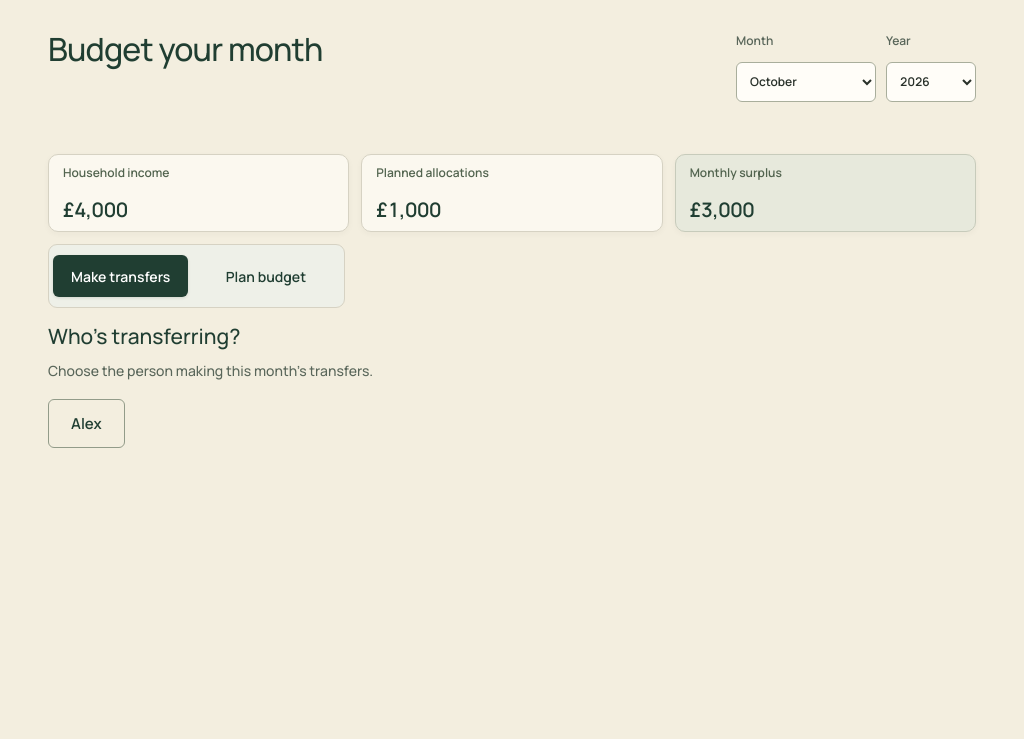
collapses and expands category and owner levels in the budget table
Click the button "Plan budget": (266, 276) [198,255,334,297]
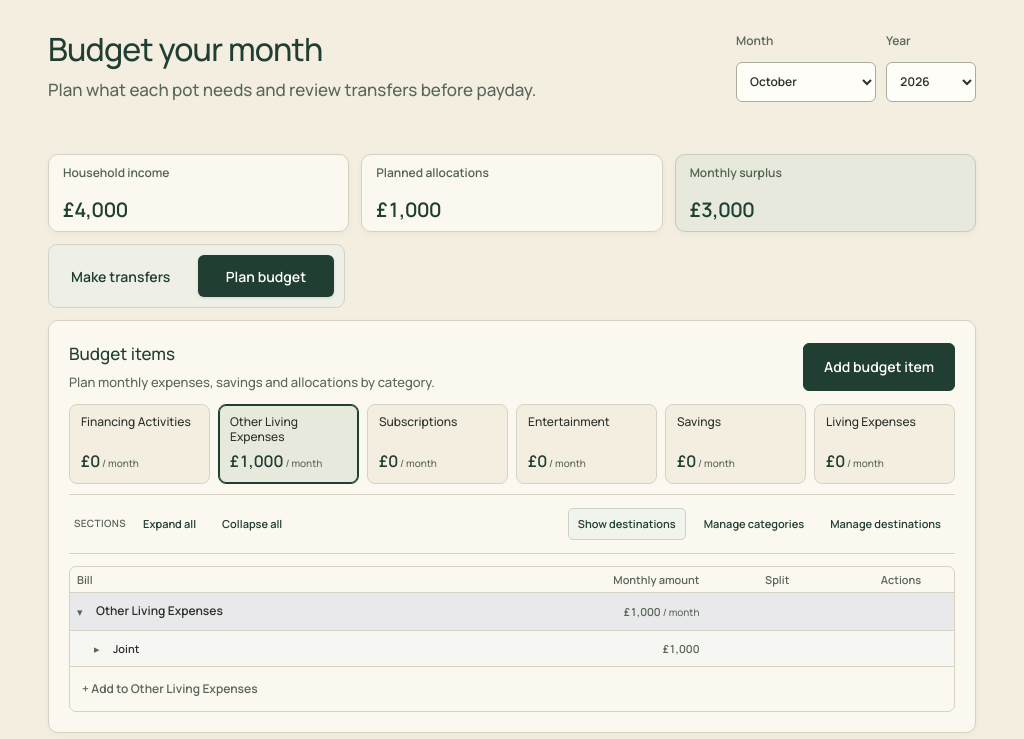
Expected: the text "Rent" is not shown
Click the button with aria-label "Collapse Other Living Expenses": (159, 611) [77,604,523,619]
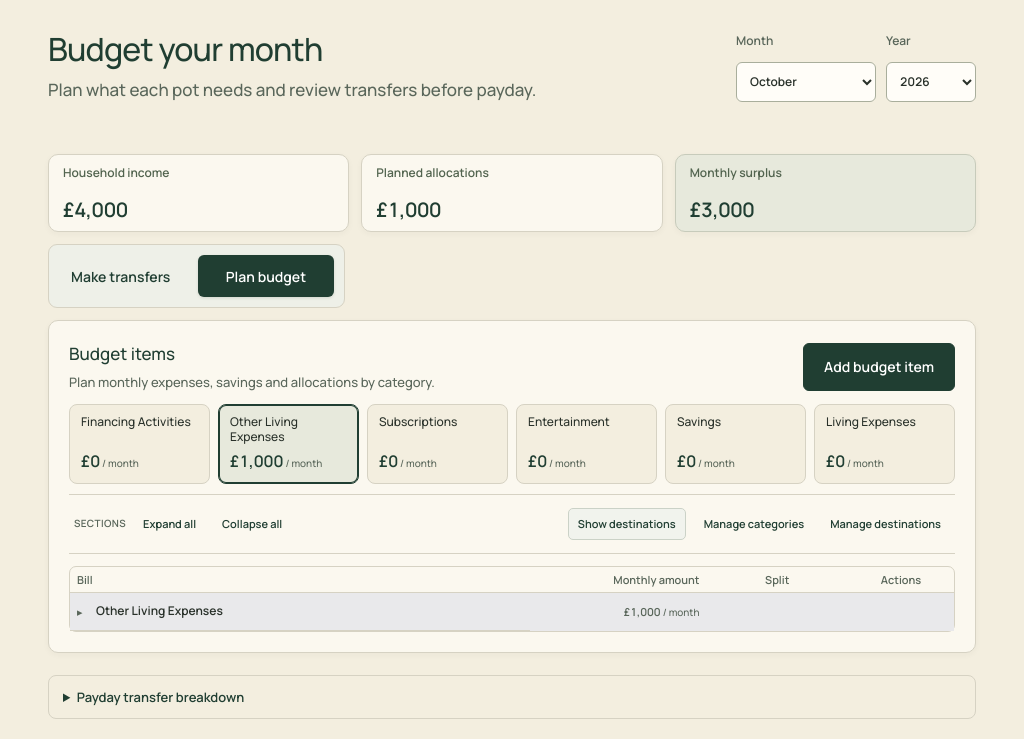
Expected: the text "Rent" is not shown
Click the button with aria-label "Expand Other Living Expenses": (159, 611) [77,604,523,619]
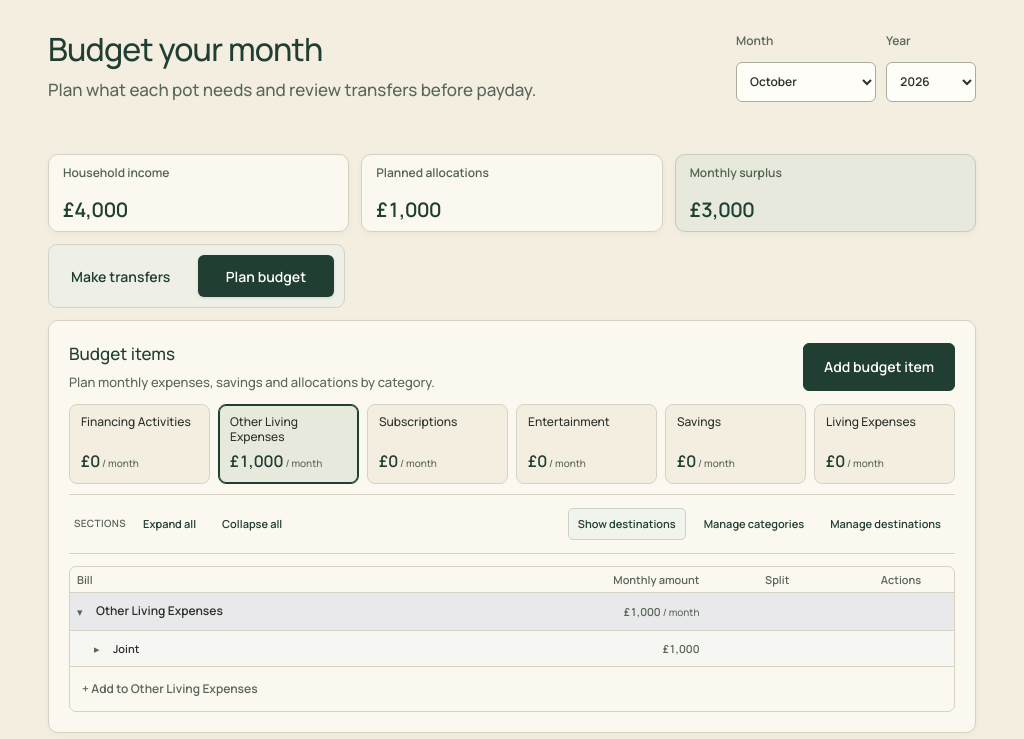
Click the button with aria-label "Expand Joint": (97, 649) [94,642,523,655]
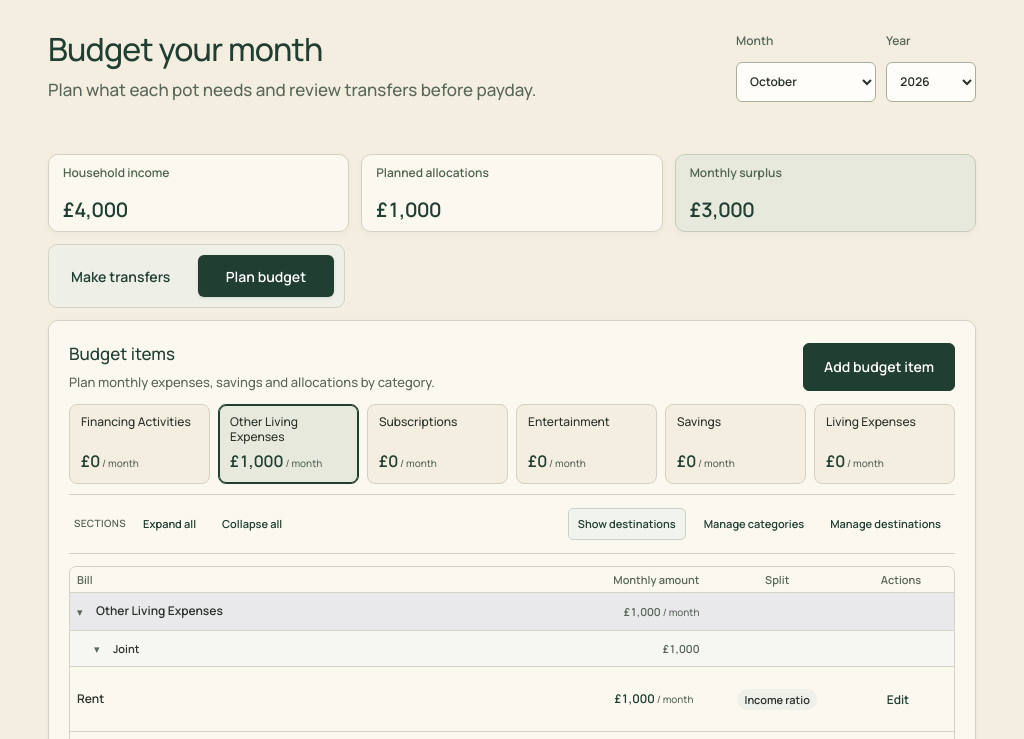
Result: the text "Rent" is shown at [77,690,104,707]
Click the button with aria-label "Collapse Joint": (97, 649) [94,642,523,655]
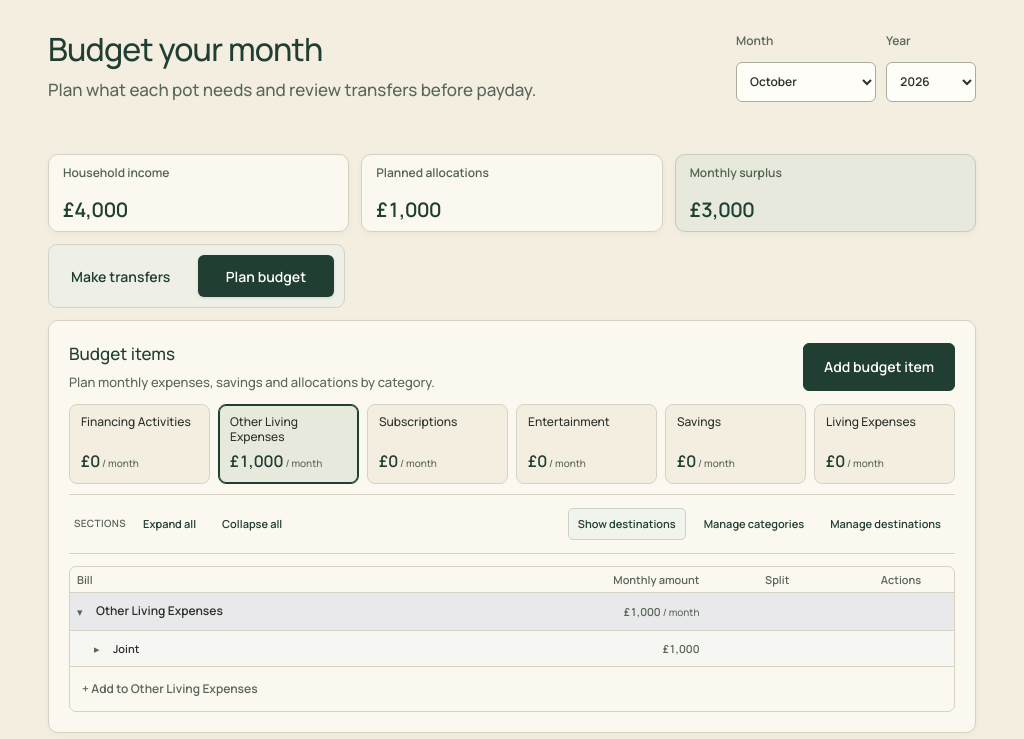
Result: the text "Rent" is gone
Click the button with aria-label "Expand Joint": (97, 649) [94,642,523,655]
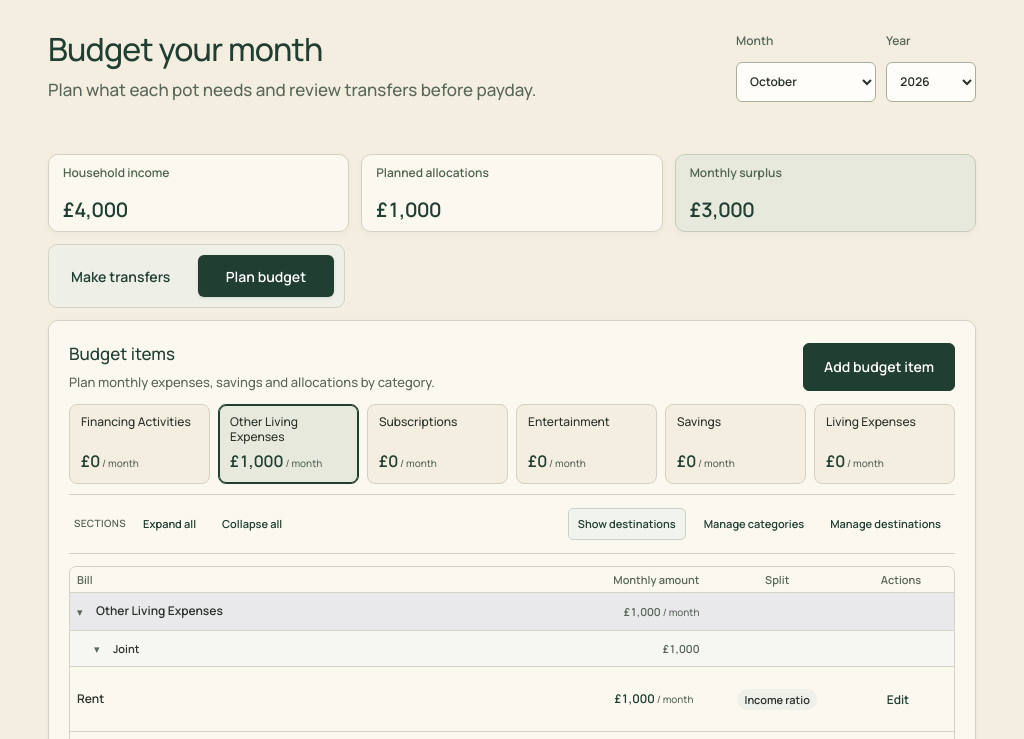
Result: the text "Rent" is shown at [77,690,104,707]
